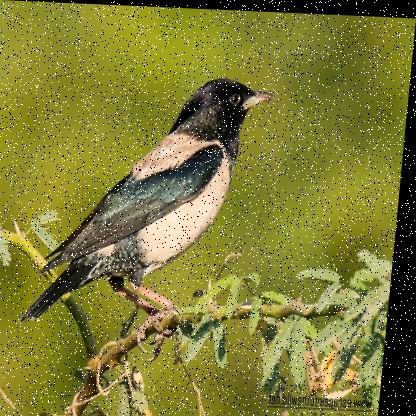Burung: (24, 68, 280, 354)
